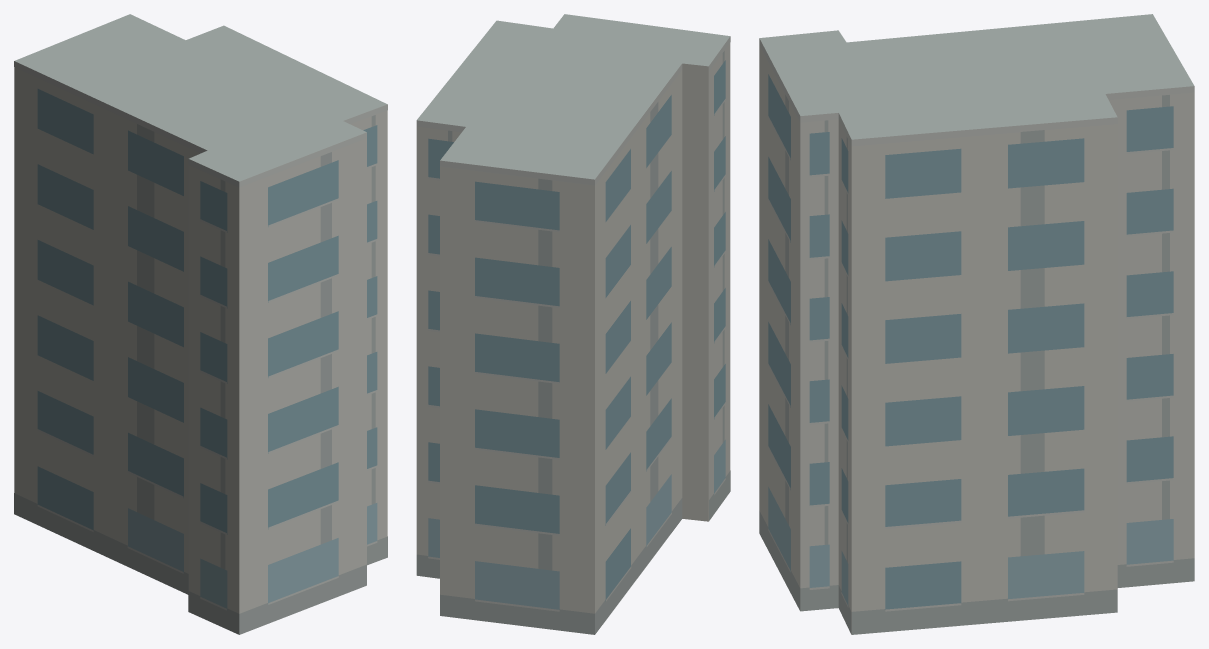
The model's file is survey-upis-32798691.glb.
The picture shows the model from 3 angles, left to right: view 1: azimuth 30°, elevation 25°; view 2: azimuth 150°, elevation 25°; view 3: azimuth 270°, elevation 25°; orthographic projection. The views are drawn at different scales.
Parts seen in each view (by area): view 1: survey-upis-32798691.tmp; view 2: survey-upis-32798691.tmp; view 3: survey-upis-32798691.tmp.
Part boxes in pixels (left/top/right/bottom): survey-upis-32798691.tmp: left=14, top=14, right=387, bottom=634; survey-upis-32798691.tmp: left=416, top=14, right=730, bottom=634; survey-upis-32798691.tmp: left=759, top=14, right=1194, bottom=634.
Bounding box in the file's own units: 10.02 × 18.4 × 14.66.
